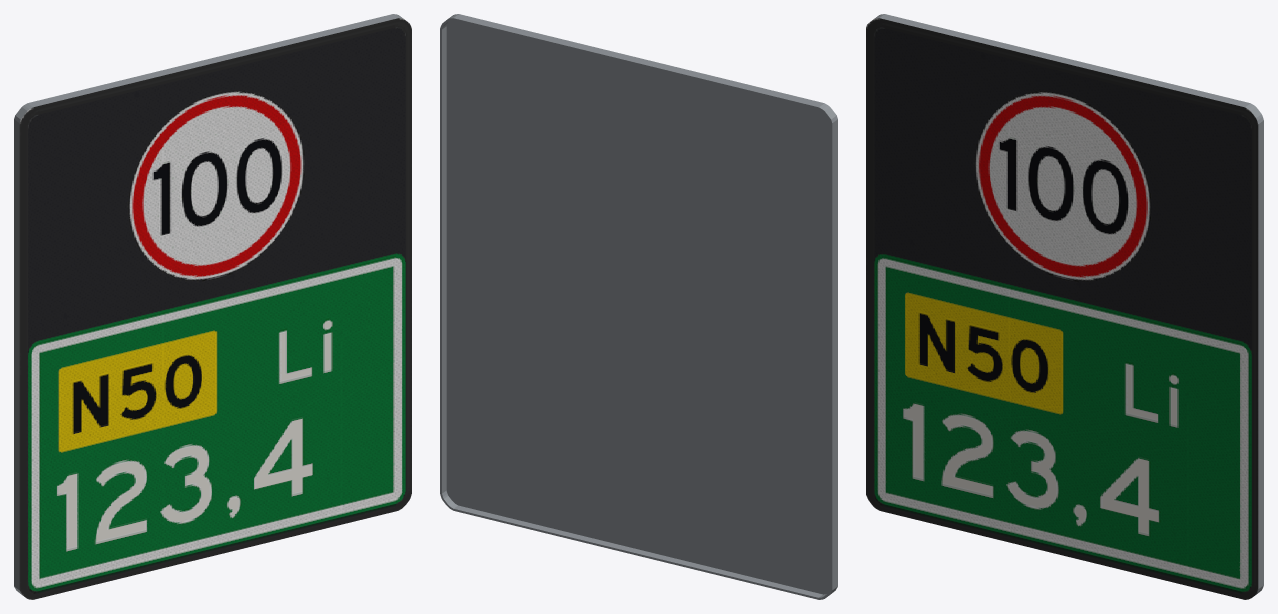
3 renders of one model, left to right at view 1: azimuth 30°, elevation 25°; view 2: azimuth 150°, elevation 25°; view 3: azimuth 330°, elevation 25°, orthographic.
Visible parts, largest first — view 1: cat_0403ee1ef603fa4c; view 2: cat_0403ee1ef603fa4c; view 3: cat_0403ee1ef603fa4c.
Part boxes in pixels (<box>): cat_0403ee1ef603fa4c: <box>14,14,411,599</box>; cat_0403ee1ef603fa4c: <box>440,14,837,599</box>; cat_0403ee1ef603fa4c: <box>866,14,1263,599</box>.
Bounding box in the file's own units: 0.6 × 0.015 × 0.72.
Materials: 2 (1 with a texture image).
